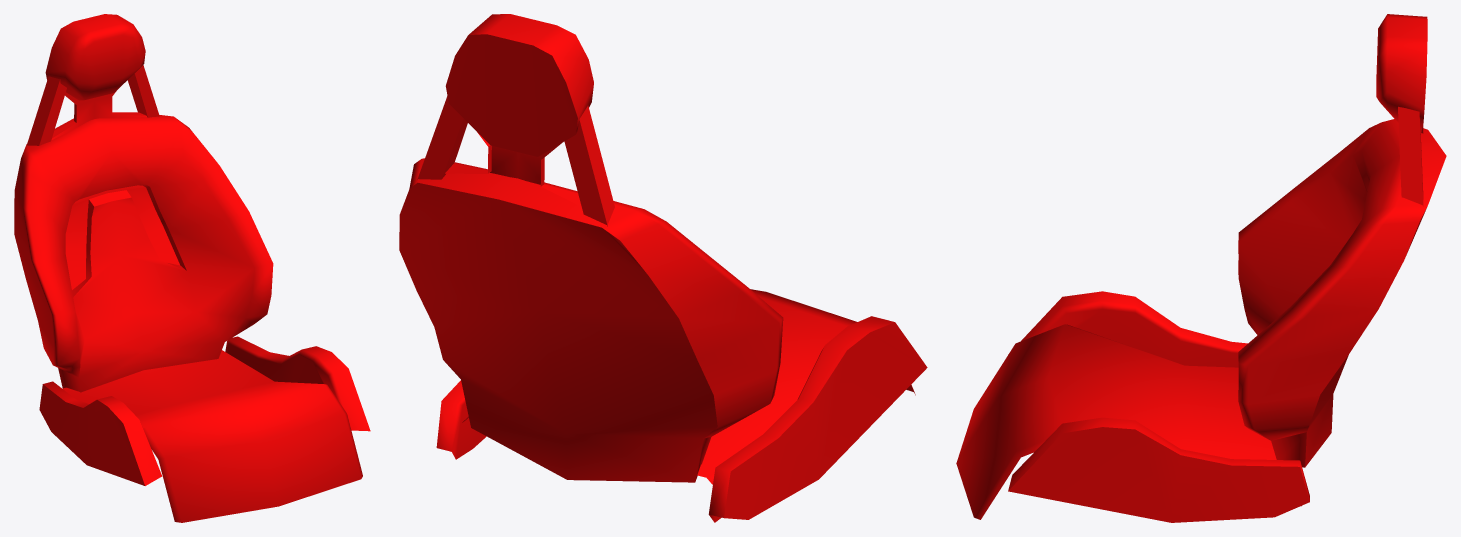
The model's file is FordGT_Seat.fbx.
3 views of the same model, side by side, from view 1: azimuth 30°, elevation 25°; view 2: azimuth 150°, elevation 25°; view 3: azimuth 270°, elevation 25° (orthographic). The views are drawn at different scales.
Parts seen in each view (by area): view 1: FordGT_Seat; view 2: FordGT_Seat; view 3: FordGT_Seat.
Boxes of the visible parts, bbox=[...] form: FordGT_Seat: bbox=[14, 14, 370, 522]; FordGT_Seat: bbox=[399, 14, 927, 522]; FordGT_Seat: bbox=[956, 14, 1446, 522].
Size of the model in its own units: 48.28 by 71.98 by 73.25.
